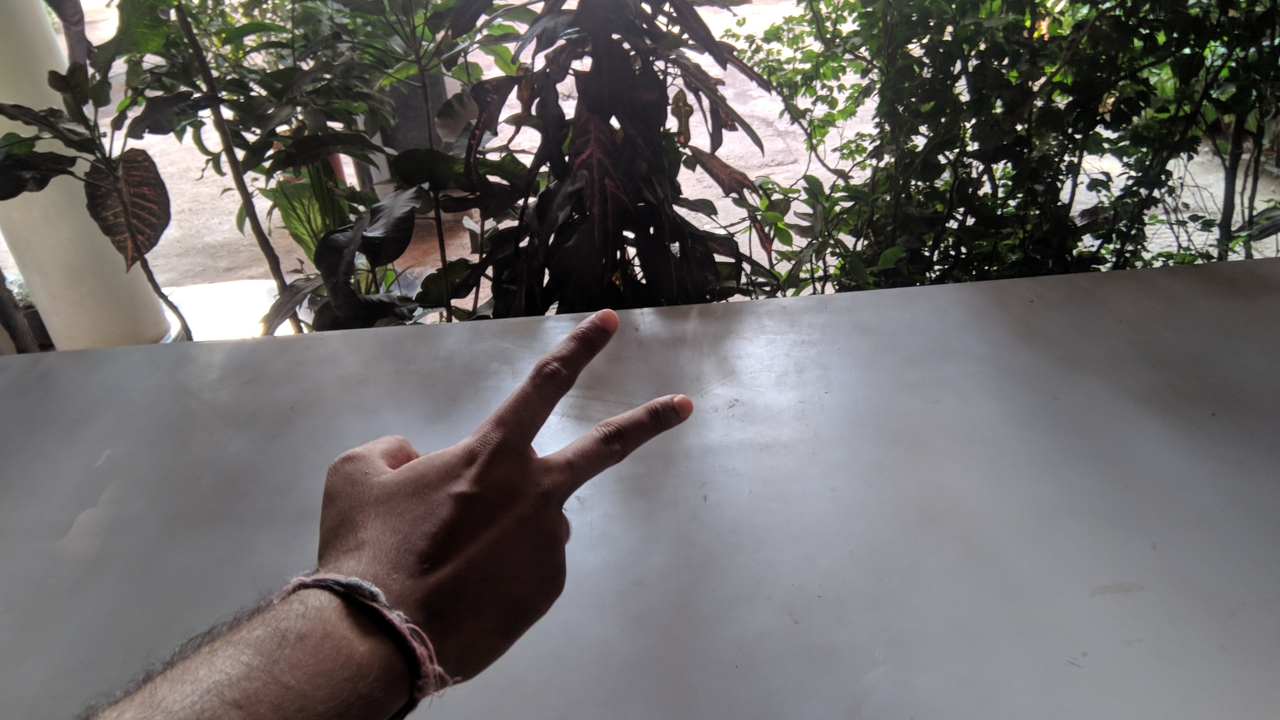fingertip: (570, 300, 624, 348), (644, 388, 698, 434)
